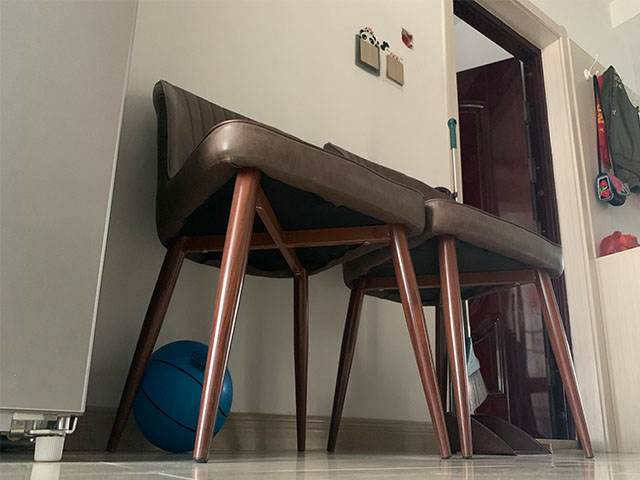stool: (105, 78, 456, 464), (321, 140, 594, 461)
